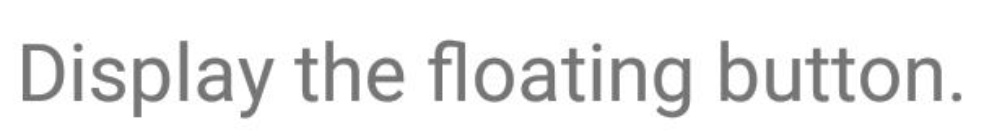TextView: (1, 1, 983, 139)
